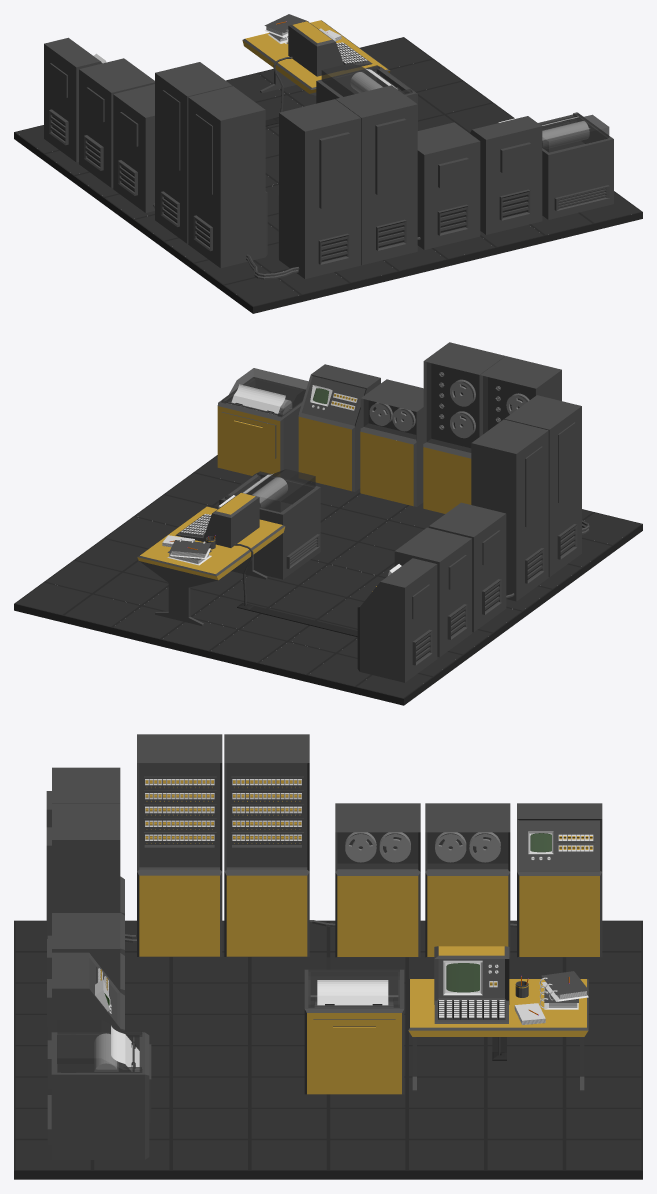
Rendered from room.glb.
The picture shows the model from 3 angles, top to bottom: view 1: azimuth 30°, elevation 25°; view 2: azimuth 150°, elevation 25°; view 3: azimuth 270°, elevation 25°; orthographic projection. The views are drawn at different scales.
Parts seen in each view (by area): view 1: Floor_Cube.588, ModuleWithButtons_Cube.047, ModuleWithTapes.002_Cube.046, ModuleWithTapes.001_Cube.044, ModuleWithTapes_Cube, ModuleWithScreen_Cube.002, PrinterModule_Cube.042, ModuleWithButtons.001_Cube.294, ModuleWithTapes.004_Cube.541, ModuleWithTapes.003_Cube.540, ModuleWithScreen.001_Cube.542, Desk_Cube.579 (+27 smaller); view 2: Floor_Cube.588, ModuleWithTapes.001_Cube.044, ModuleWithButtons.001_Cube.294, ModuleWithTapes_Cube, ModuleWithScreen.001_Cube.542, ModuleWithScreen_Cube.002, PrinterModule_Cube.042, Desk_Cube.579, ModuleWithButtons_Cube.047, PrinterModule.001_Cube.608, ModuleWithTapes.004_Cube.541, ModuleWithTapes.003_Cube.540 (+17 smaller); view 3: Floor_Cube.588, ModuleWithButtons.001_Cube.294, ModuleWithButtons_Cube.047, ModuleWithTapes.003_Cube.540, ModuleWithTapes.004_Cube.541, ModuleWithScreen.001_Cube.542, PrinterModule_Cube.042, PrinterModule.001_Cube.608, ModuleWithTapes.001_Cube.044, Desk_Cube.579, ModuleWithScreen_Cube.002, ModuleWithTapes_Cube (+16 smaller).
Boxes of the visible parts, <box> form: Floor_Cube.588: <box>14,37,642,313</box>; ModuleWithButtons_Cube.047: <box>188,86,267,268</box>; ModuleWithTapes.002_Cube.046: <box>278,99,360,278</box>; ModuleWithTapes.001_Cube.044: <box>335,85,417,265</box>; ModuleWithTapes_Cube: <box>417,122,480,249</box>; ModuleWithScreen_Cube.002: <box>470,116,542,234</box>; PrinterModule_Cube.042: <box>538,114,613,219</box>; ModuleWithButtons.001_Cube.294: <box>155,62,232,243</box>; ModuleWithTapes.004_Cube.541: <box>79,58,154,187</box>; ModuleWithTapes.003_Cube.540: <box>113,84,154,212</box>; ModuleWithScreen.001_Cube.542: <box>44,37,102,162</box>; Desk_Cube.579: <box>242,20,390,95</box>; Floor_Cube.588: <box>14,455,642,705</box>; ModuleWithTapes.001_Cube.044: <box>423,342,505,513</box>; ModuleWithButtons.001_Cube.294: <box>471,419,548,601</box>; ModuleWithTapes_Cube: <box>360,379,423,506</box>; ModuleWithScreen.001_Cube.542: <box>357,558,437,682</box>; ModuleWithScreen_Cube.002: <box>298,364,380,491</box>; PrinterModule_Cube.042: <box>217,377,305,478</box>; Desk_Cube.579: <box>137,506,285,626</box>; ModuleWithButtons_Cube.047: <box>504,395,581,576</box>; PrinterModule.001_Cube.608: <box>219,472,320,579</box>; ModuleWithTapes.004_Cube.541: <box>394,527,471,657</box>; ModuleWithTapes.003_Cube.540: <box>429,502,506,632</box>; Floor_Cube.588: <box>14,920,642,1179</box>; ModuleWithButtons.001_Cube.294: <box>224,734,309,956</box>; ModuleWithButtons_Cube.047: <box>137,734,222,956</box>; ModuleWithTapes.003_Cube.540: <box>335,803,420,957</box>; ModuleWithTapes.004_Cube.541: <box>425,803,510,957</box>; ModuleWithScreen.001_Cube.542: <box>517,803,602,957</box>; PrinterModule_Cube.042: <box>51,1032,151,1159</box>; PrinterModule.001_Cube.608: <box>304,969,404,1094</box>; ModuleWithTapes.001_Cube.044: <box>52,804,124,955</box>; Desk_Cube.579: <box>408,979,588,1092</box>; ModuleWithScreen_Cube.002: <box>52,952,124,1032</box>; ModuleWithTapes_Cube: <box>52,913,124,995</box>.
Bounding box in the file's own units: 27.03 × 10.3 × 28.71.
